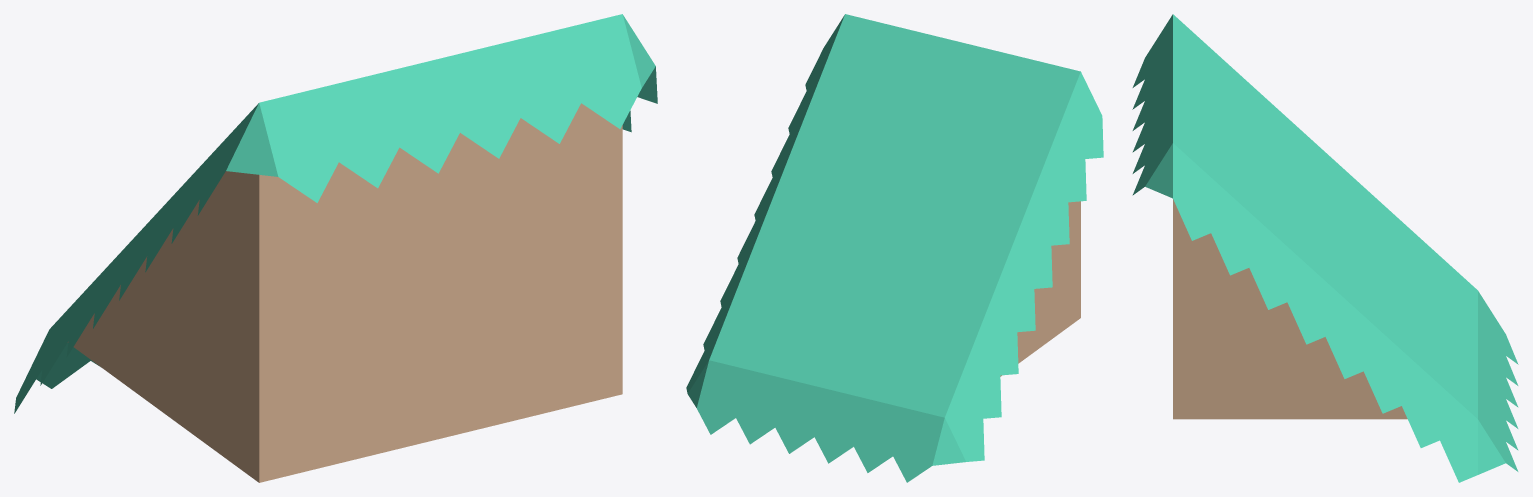
The model's file is blockSlope.glb.
The picture shows the model from 3 angles, left to right: view 1: azimuth 30°, elevation 25°; view 2: azimuth 150°, elevation 25°; view 3: azimuth 270°, elevation 25°; orthographic projection. The views are drawn at different scales.
Visible parts, largest first — view 1: blockSlope; view 2: blockSlope; view 3: blockSlope.
Part boxes in pixels (x1,y1,x2,y2): blockSlope: [14, 14, 657, 482]; blockSlope: [686, 14, 1103, 482]; blockSlope: [1132, 14, 1518, 482].
Bounding box in the file's own units: 1.27 × 1.23 × 1.27.
